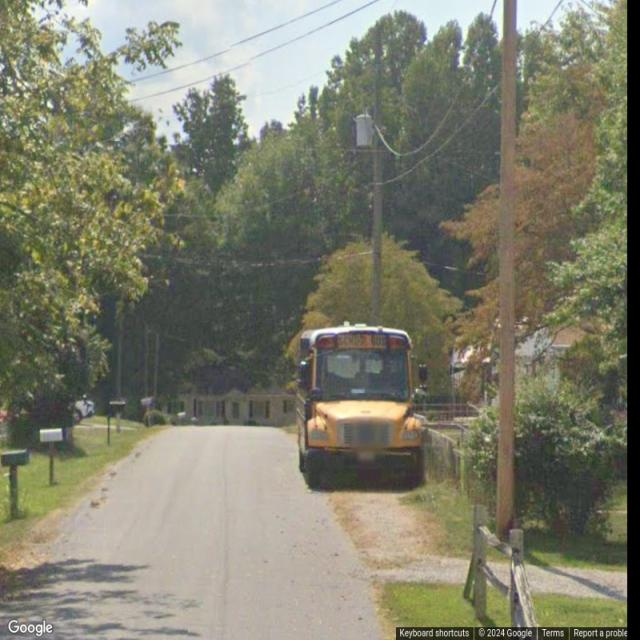House: (156, 363, 295, 426)
